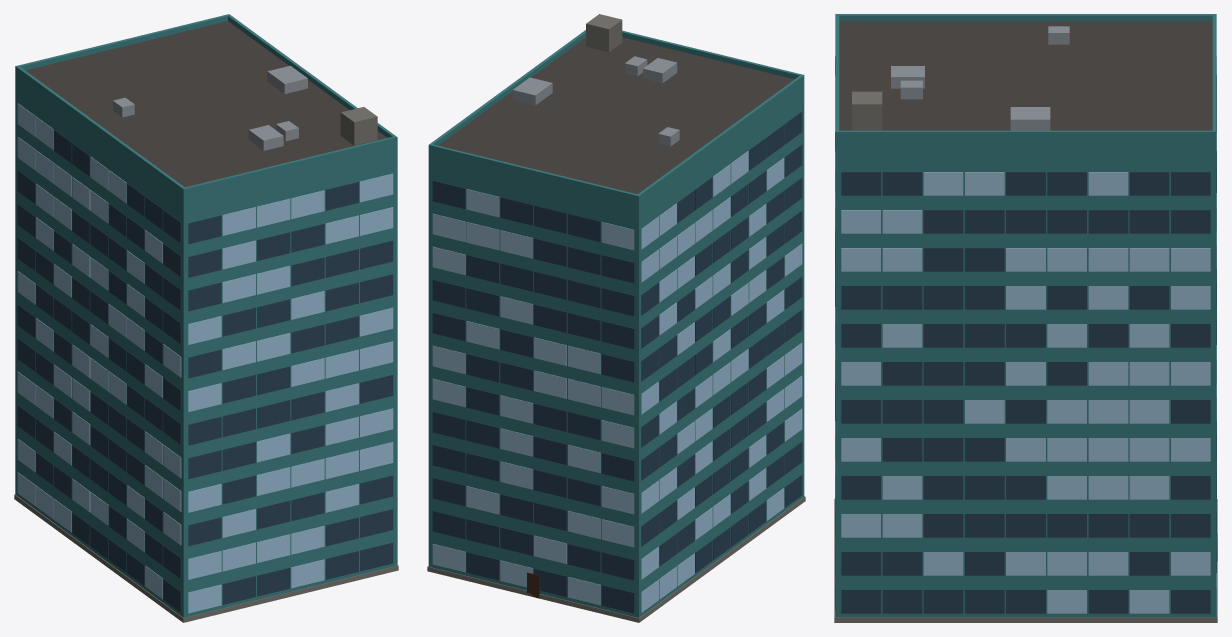
File: bld_office_b.glb
3 views of the same model, side by side, from view 1: azimuth 30°, elevation 25°; view 2: azimuth 150°, elevation 25°; view 3: azimuth 270°, elevation 25° (orthographic). The views are drawn at different scales.
Parts seen in each view (by area): view 1: bld_office_b__mesh; view 2: bld_office_b__mesh; view 3: bld_office_b__mesh.
Boxes of the visible parts, <box> form: bld_office_b__mesh: <box>14,14,398,622</box>; bld_office_b__mesh: <box>427,14,805,622</box>; bld_office_b__mesh: <box>834,14,1217,622</box>.
Bounding box in the file's own units: 22.16 × 44.4 × 30.16.
